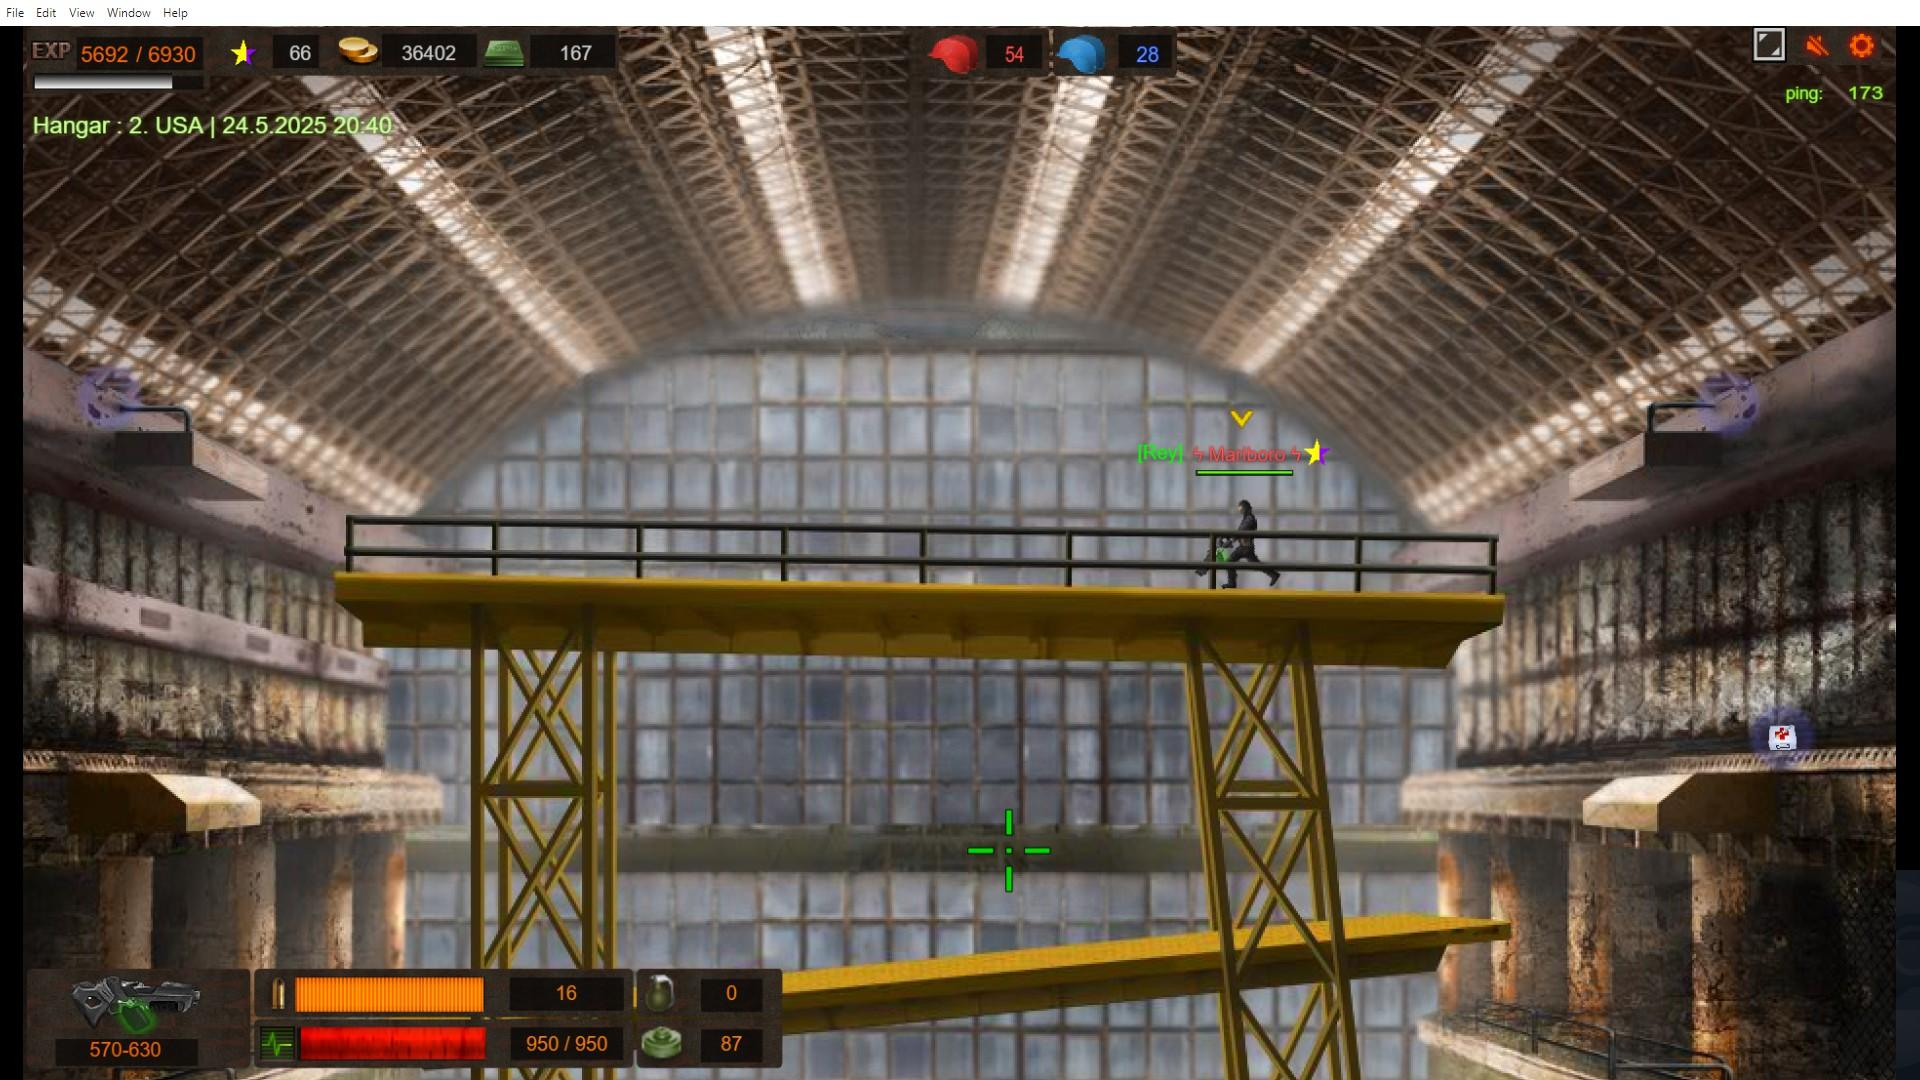enemy: (1236, 501, 1258, 593)
